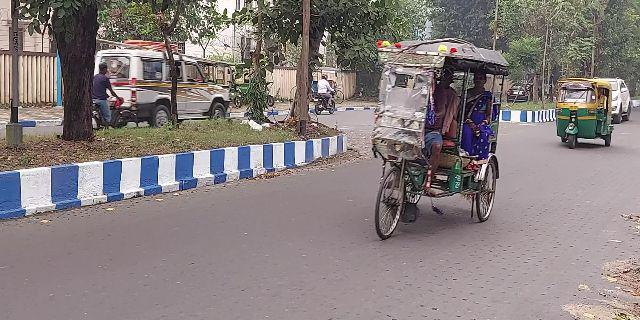Autorickshaw: (547, 73, 617, 159)
Car: (97, 40, 234, 125)
Rickshaw: (373, 32, 503, 251)
